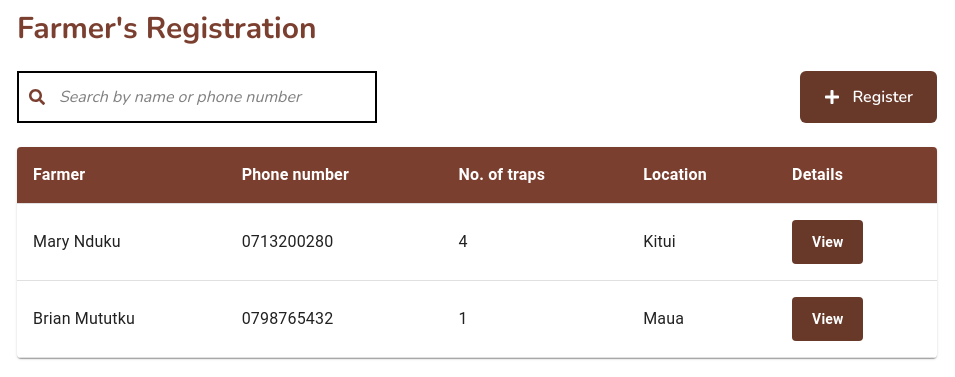
it: FarmersPage › filters farmers by search
The width and height of the screenshot is (955, 377).
Type "Brian" into the field named "search farmers by name" at (197, 97), box [17,71,377,123]
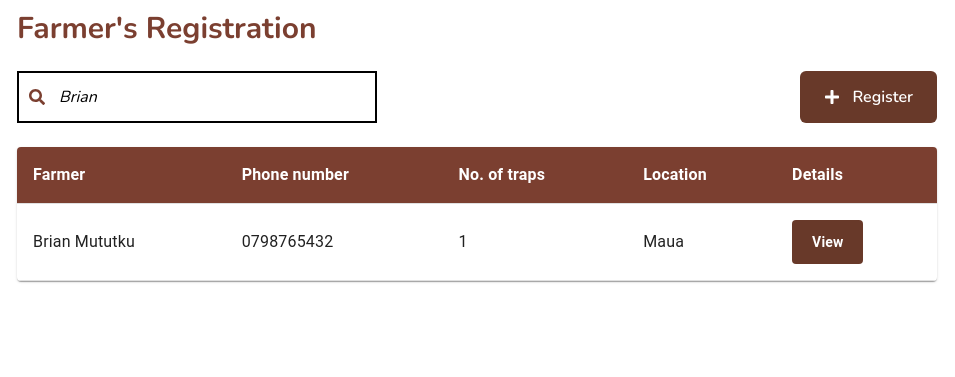
Expected: the text "Brian Mututku" is shown, [17,204,226,280]
Expected: the text "Mary Nduku" is gone
